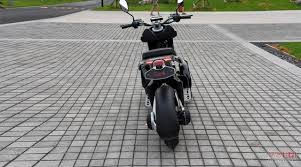motorcycle: (118, 1, 200, 151)
